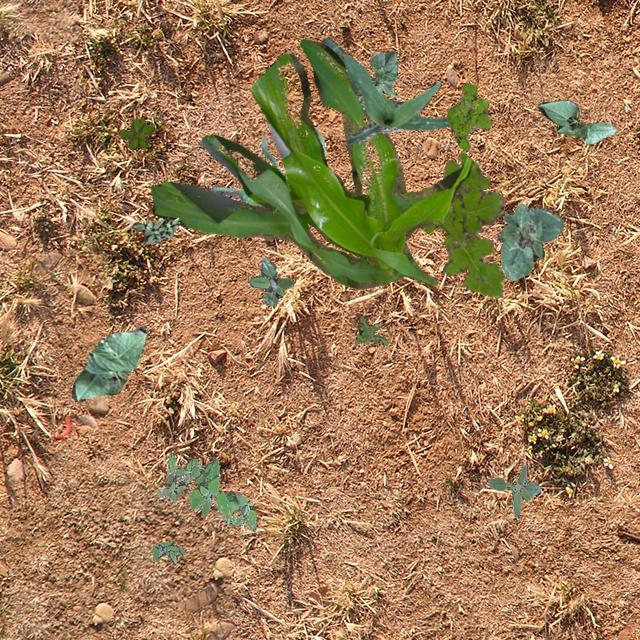crop: (150, 38, 472, 288), (322, 36, 449, 144), (210, 126, 324, 206), (72, 324, 146, 400), (497, 202, 562, 280), (536, 98, 616, 144), (368, 50, 396, 96)
weed: (406, 152, 504, 296), (156, 452, 256, 530), (446, 82, 490, 150), (486, 464, 540, 516), (248, 256, 292, 304), (132, 216, 178, 244), (118, 116, 154, 148), (354, 314, 386, 344), (150, 540, 184, 562)
